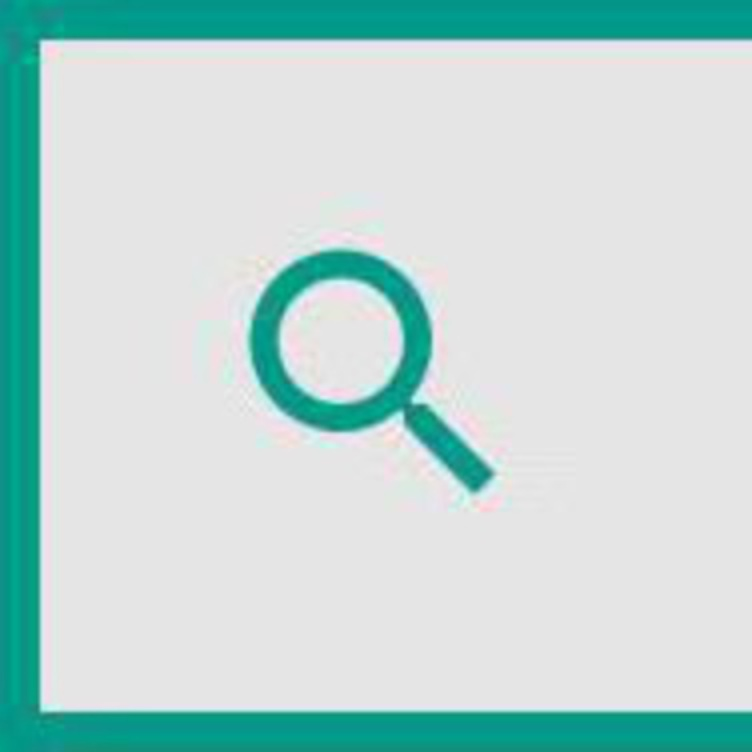ImgButton: (1, 1, 751, 751)
